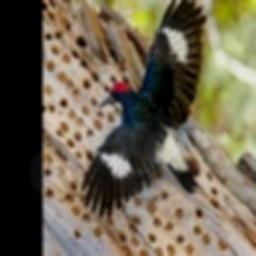Woodpecker: (81, 0, 206, 218)
